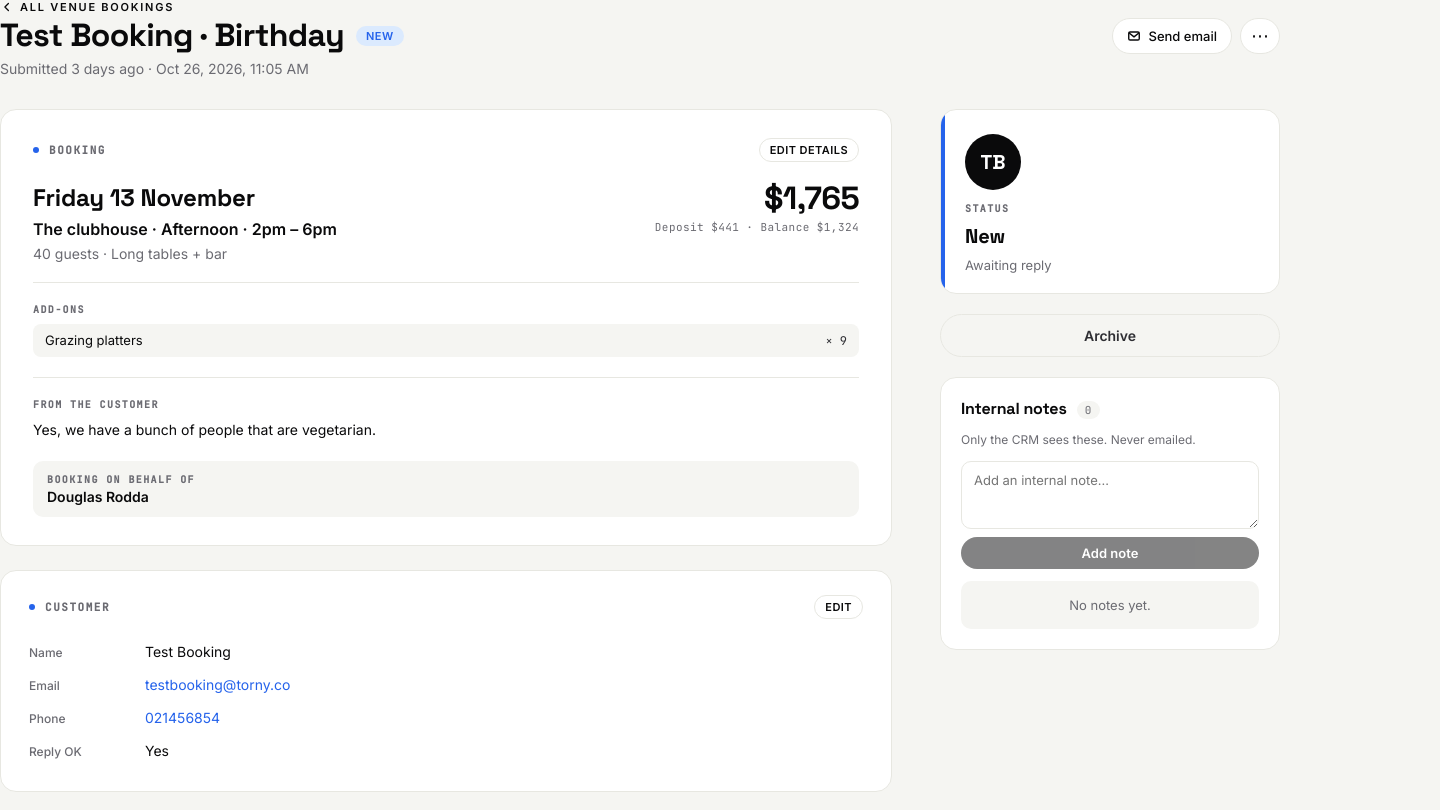
Test case: VenueBookingDetailView — edit details modal › opens the modal when "Edit details" is clicked
Click the button "Edit details": click(809, 150) [759, 138, 859, 162]
(page scrolled)
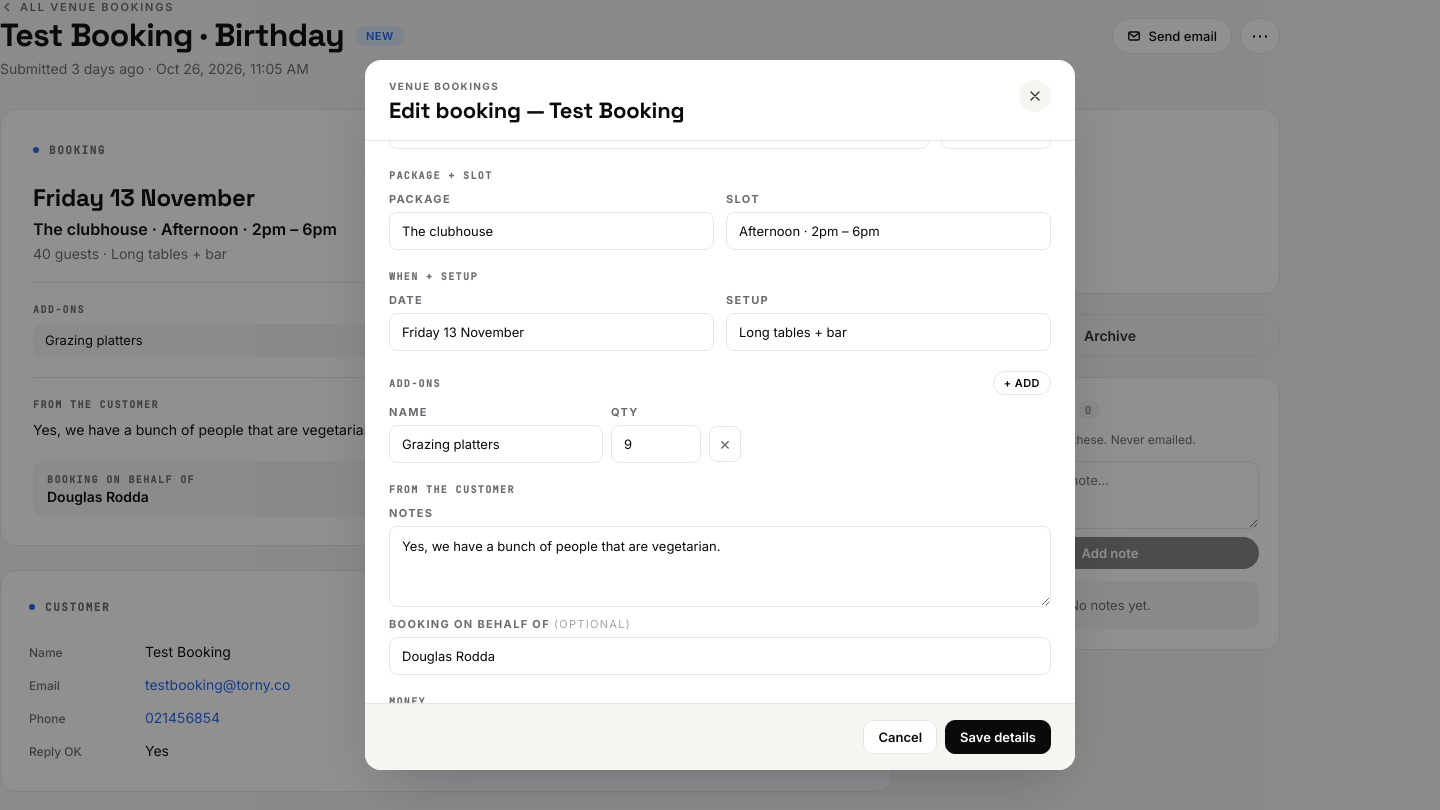
Expected: the form with class "booking-form" is shown, [389, 141, 1051, 703]
